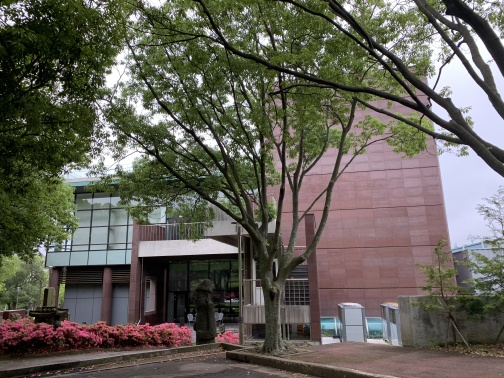Museum: (43, 162, 324, 343)
